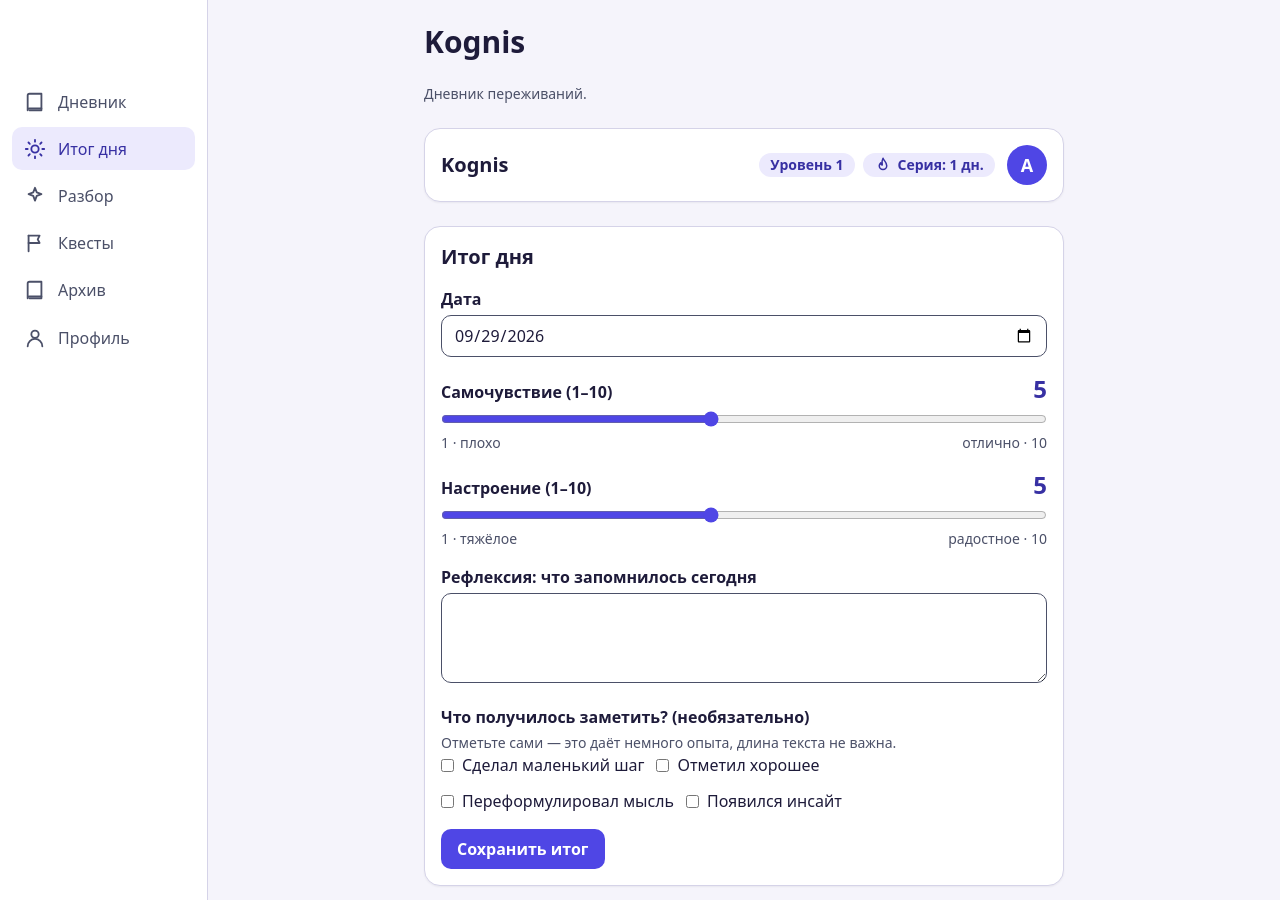
итог дня: сохранённый итог с кризисным блоком и история с рефлексией
The image size is (1280, 900).
Click the button with test id "save-review" at [523, 849], box [441,829,604,869]
(page scrolled)
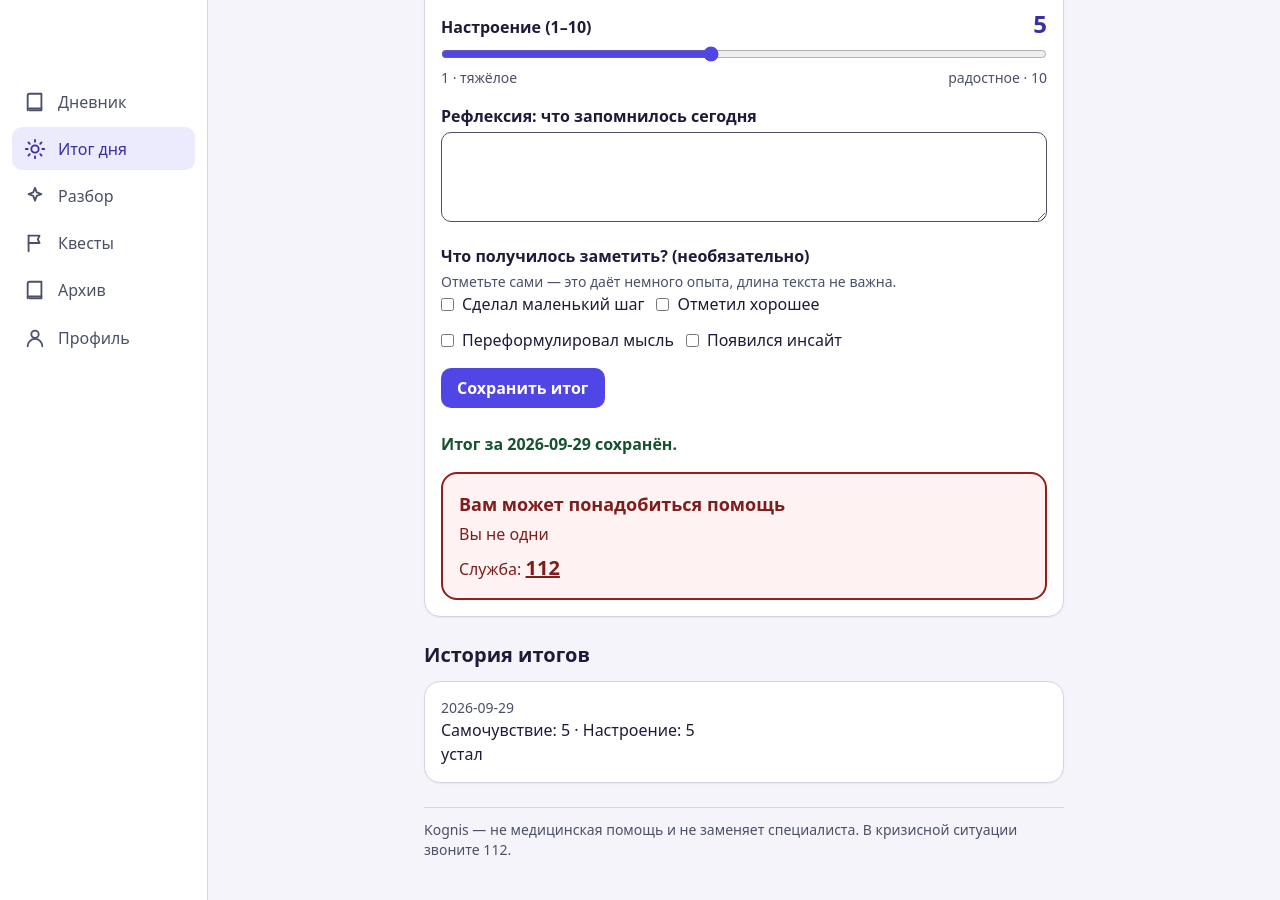
Expected: the text "Итог за 2026-09-29 сохранён." is shown, [441,433,677,455]
Expected: the message "Вам может понадобиться помощь Вы не одни Служба: 112" is shown, [441,472,1047,600]
